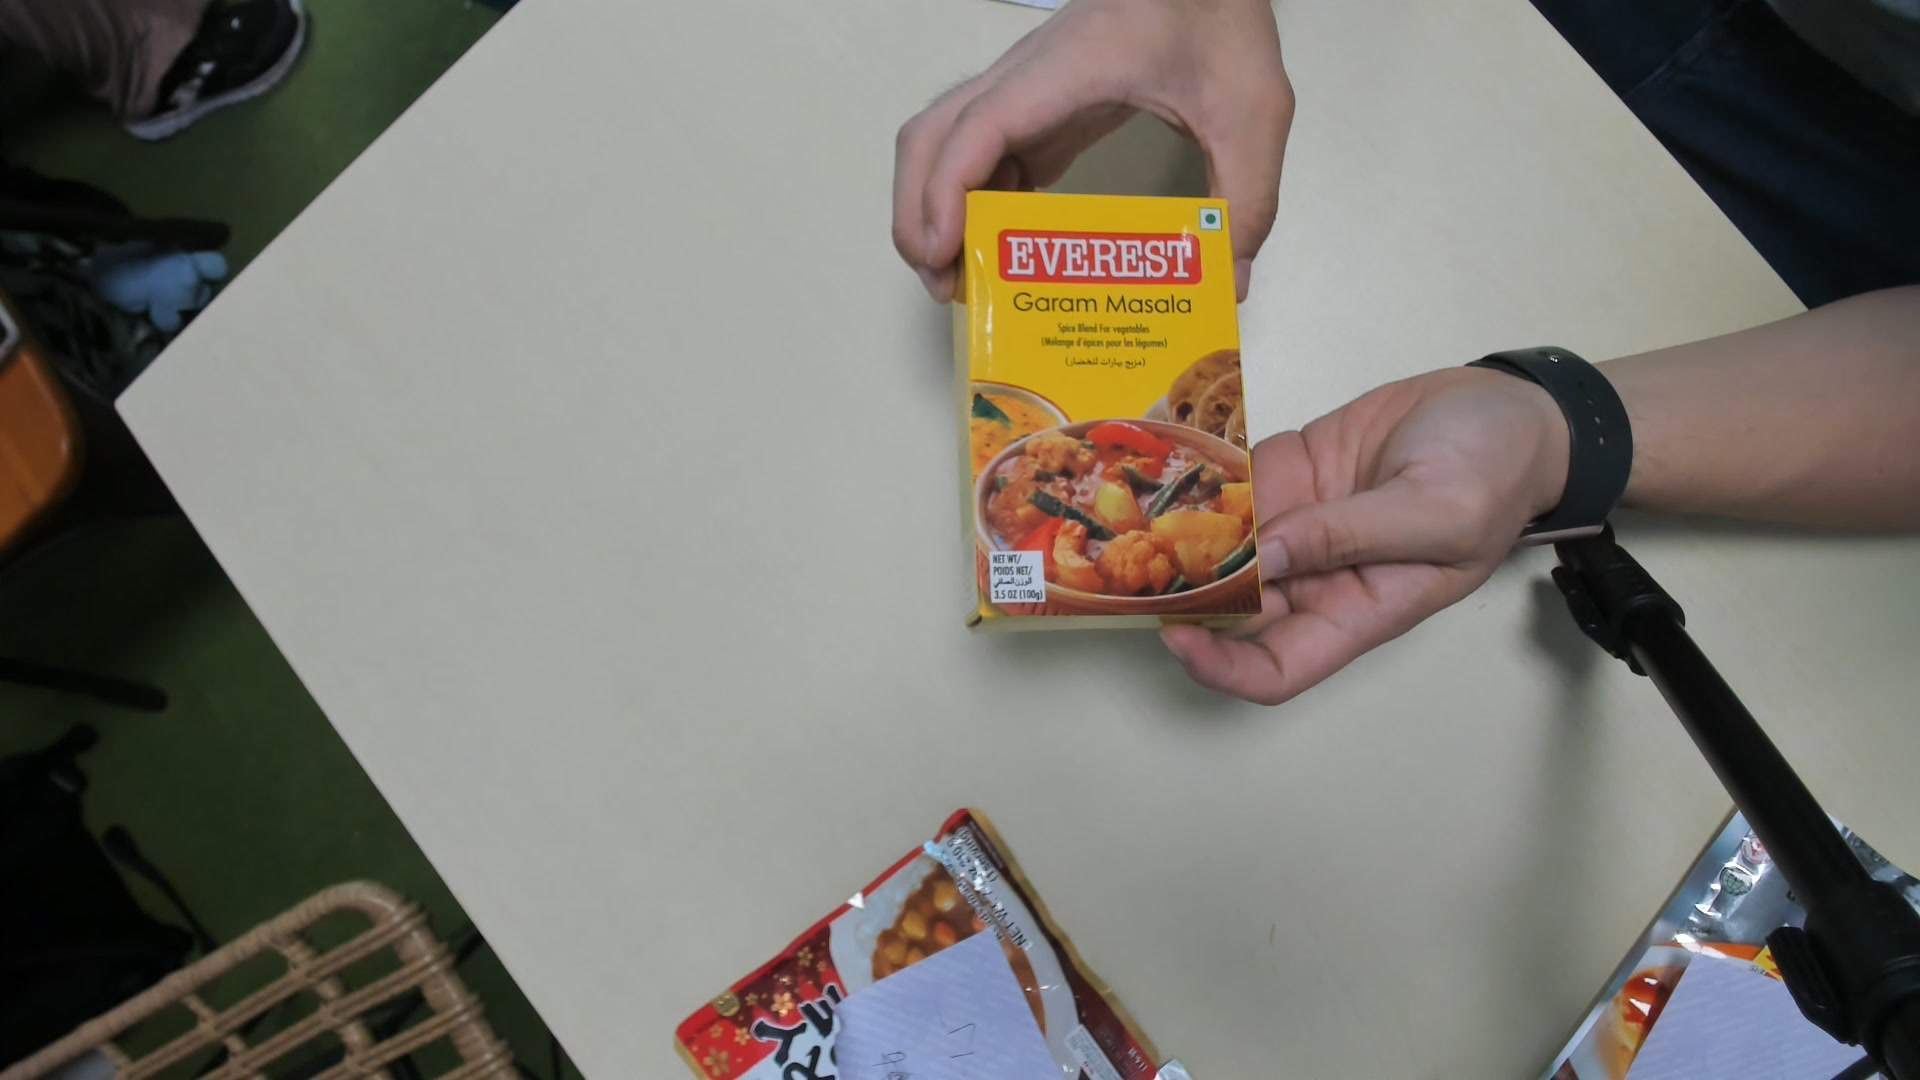CurryPastePowderSauce_100-199g_NonHalal_NonHealthy: (947, 189, 1269, 640)
